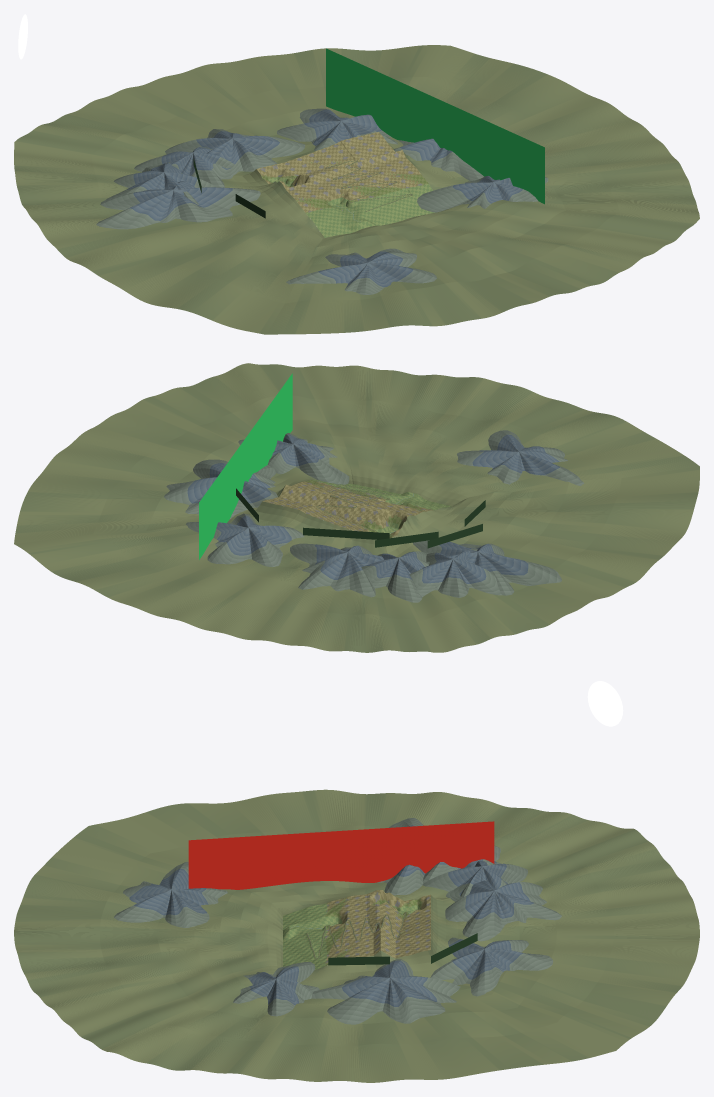
File: hardknott.glb
The picture shows the model from 3 angles, top to bottom: view 1: azimuth 30°, elevation 25°; view 2: azimuth 150°, elevation 25°; view 3: azimuth 270°, elevation 25°; orthographic projection. The views are drawn at different scales.
Visible parts, largest first — view 1: FellFar, ScafellRange, ScafellPikes, FellGround_009, FellGround_000, FellGround_038, FellGround_019, FellGround_023, FellGround_044, FellGround_014, FellGround_027, FellGround_004; view 2: FellFar, ScafellRange, ScafellPikes, FellMist, FellGround_038, FellGround_044; view 3: FellFar, ScafellRange, EskdaleVale, Sun, FellGround_038, FellGround_009, FellMist, FellGround_044, FellGround_000.
Part boxes in pixels (x1,y1,x2,y2): FellFar: (14, 45, 699, 334); ScafellRange: (96, 108, 548, 294); ScafellPikes: (326, 48, 544, 204); FellGround_009: (298, 198, 363, 232); FellGround_000: (321, 204, 389, 237); FellGround_038: (338, 132, 394, 161); FellGround_019: (292, 182, 348, 203); FellGround_023: (369, 150, 409, 177); FellGround_044: (256, 164, 301, 195); FellGround_014: (389, 162, 423, 190); FellGround_027: (296, 170, 341, 192); FellGround_004: (404, 177, 434, 215); FellFar: (14, 363, 699, 652); ScafellRange: (164, 430, 584, 602); ScafellPikes: (199, 373, 292, 559); FellMist: (236, 488, 485, 548); FellGround_038: (262, 488, 323, 511); FellGround_044: (373, 511, 419, 538); FellFar: (14, 789, 699, 1082); ScafellRange: (114, 818, 561, 1024); EskdaleVale: (188, 821, 494, 889); Sun: (587, 681, 623, 726); FellGround_038: (378, 930, 430, 958); FellGround_009: (295, 898, 343, 932); FellMist: (328, 933, 477, 965); FellGround_044: (355, 890, 430, 914); FellGround_000: (283, 911, 316, 949).
Bounding box in the file's own units: 12001 × 3576 × 11983.
